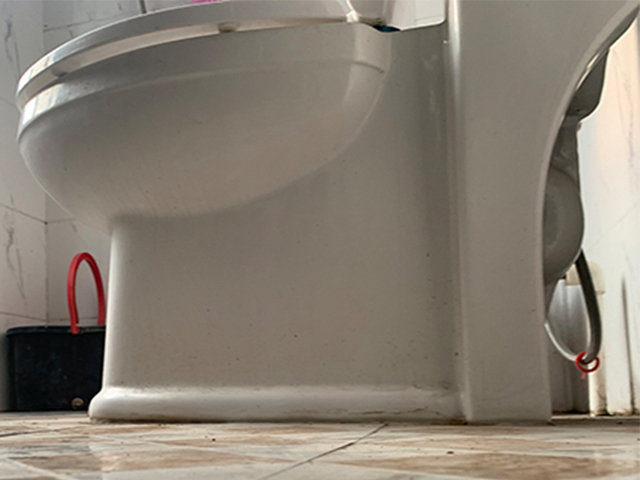closestool: (14, 1, 640, 424)
